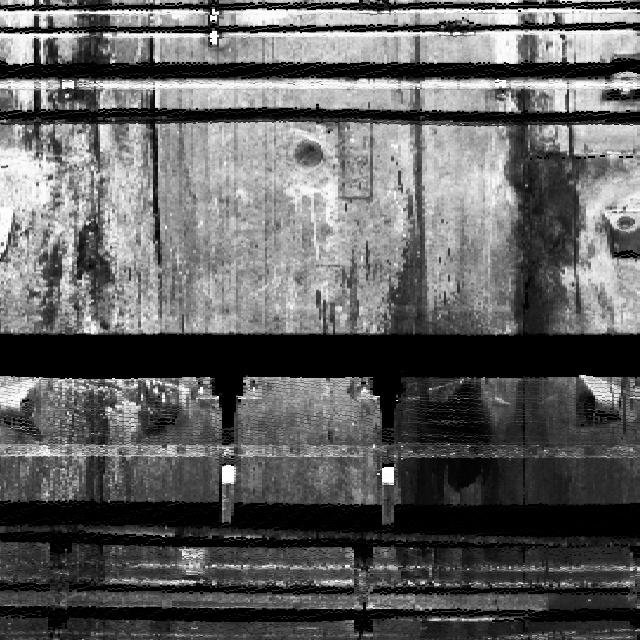leakage: (486, 0, 637, 638), (0, 0, 161, 335), (378, 103, 488, 518), (0, 377, 182, 504)
